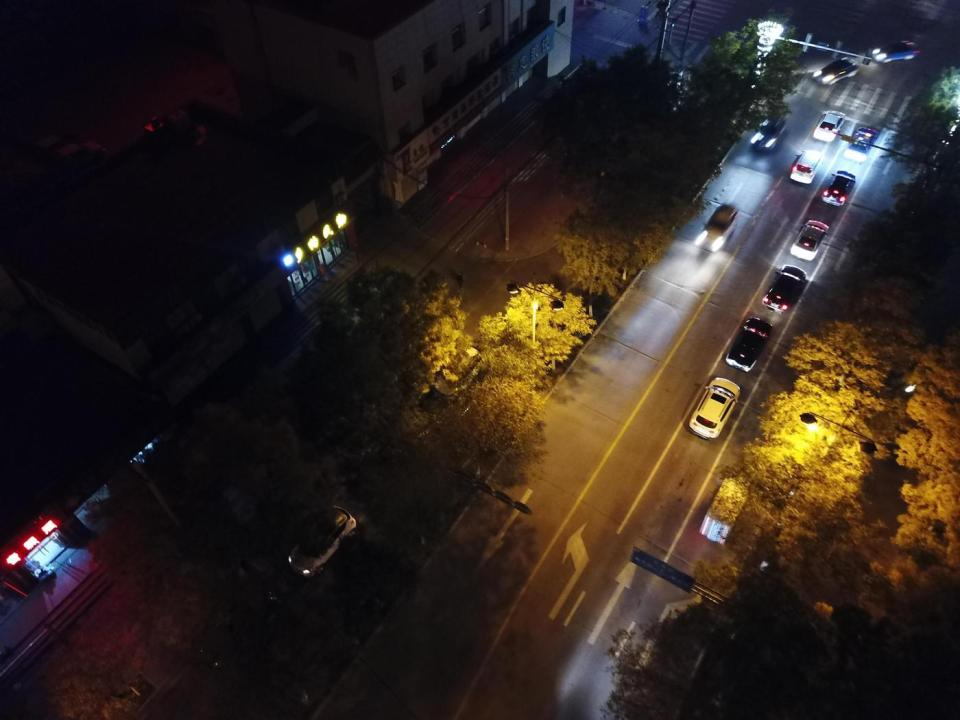car: (193, 586, 282, 670), (409, 344, 481, 422), (287, 506, 356, 579), (688, 377, 740, 440), (726, 316, 772, 372), (644, 72, 686, 125), (762, 263, 806, 313), (53, 140, 105, 169), (791, 220, 828, 260), (31, 132, 77, 162), (750, 112, 785, 151), (813, 58, 859, 86), (820, 170, 855, 206), (789, 149, 822, 184), (872, 40, 920, 63), (845, 127, 878, 160), (812, 110, 845, 142)
truck: (699, 475, 749, 544)
van: (699, 204, 738, 251)
